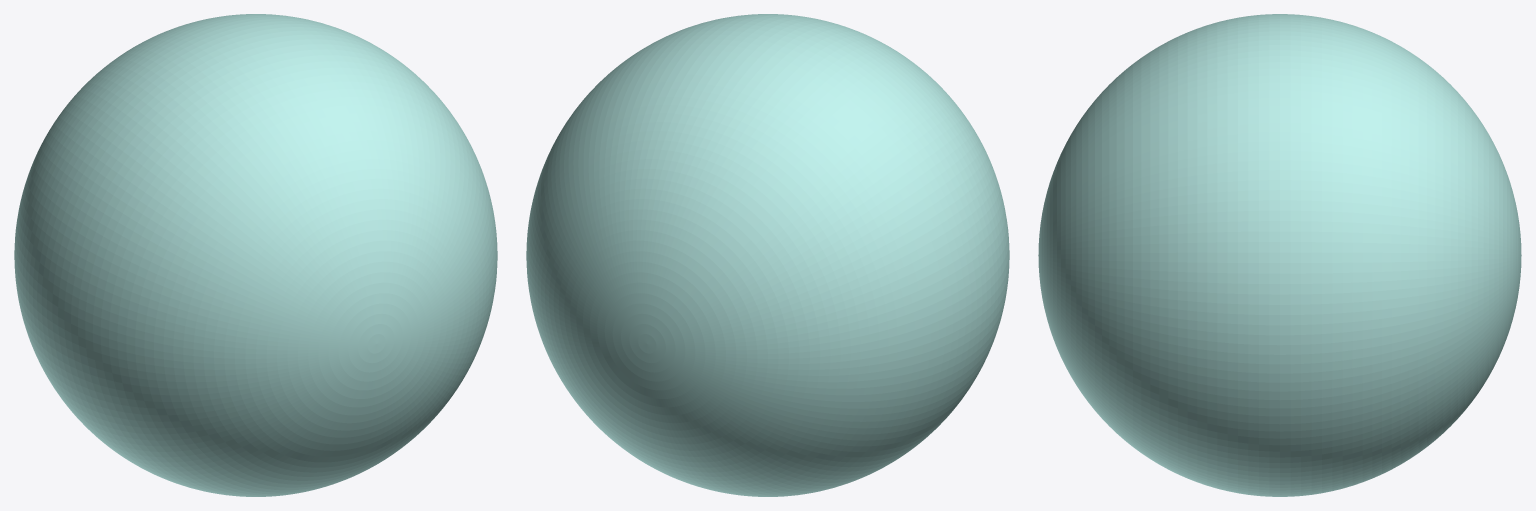
File: EEZYbotARM_Mk2_robot_base_vis_17.dae
3 views of the same model, side by side, from view 1: azimuth 30°, elevation 25°; view 2: azimuth 150°, elevation 25°; view 3: azimuth 270°, elevation 25° (orthographic).
Visible parts, largest first — view 1: node; view 2: node; view 3: node.
Part boxes in pixels (box(x1,y1,x2,y2)): node: box(14, 14, 497, 496); node: box(526, 14, 1009, 496); node: box(1038, 14, 1521, 496).
Bounding box in the file's own units: 0.006 × 0.006 × 0.006.
